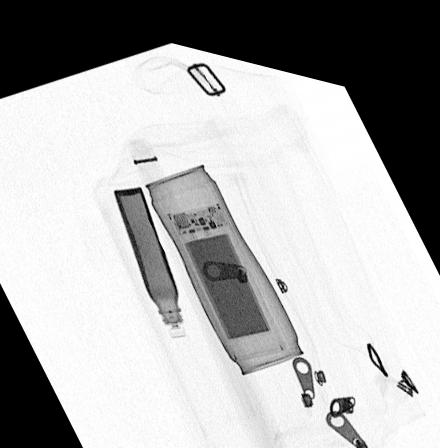Powerbank: (165, 188, 288, 348)
